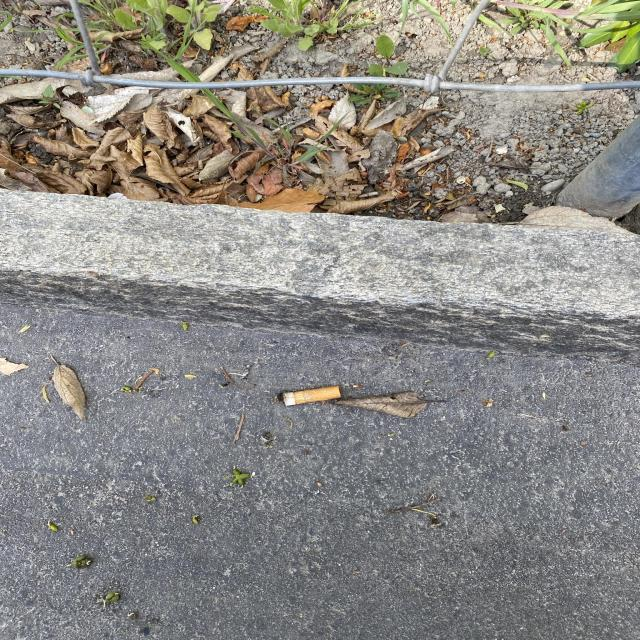other waste: (278, 386, 340, 406)
